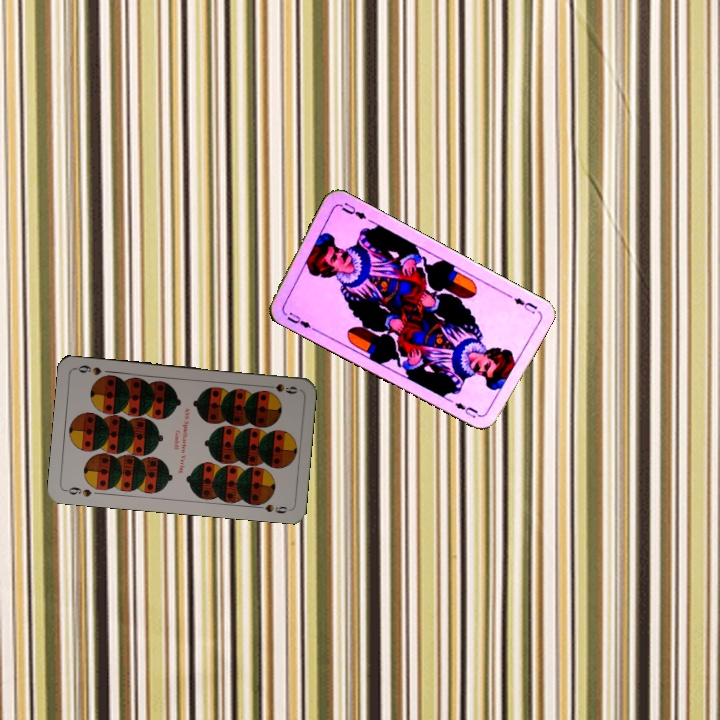EU: (279, 306, 316, 332), (510, 293, 540, 316)
S9: (260, 380, 300, 397), (62, 483, 94, 499)
